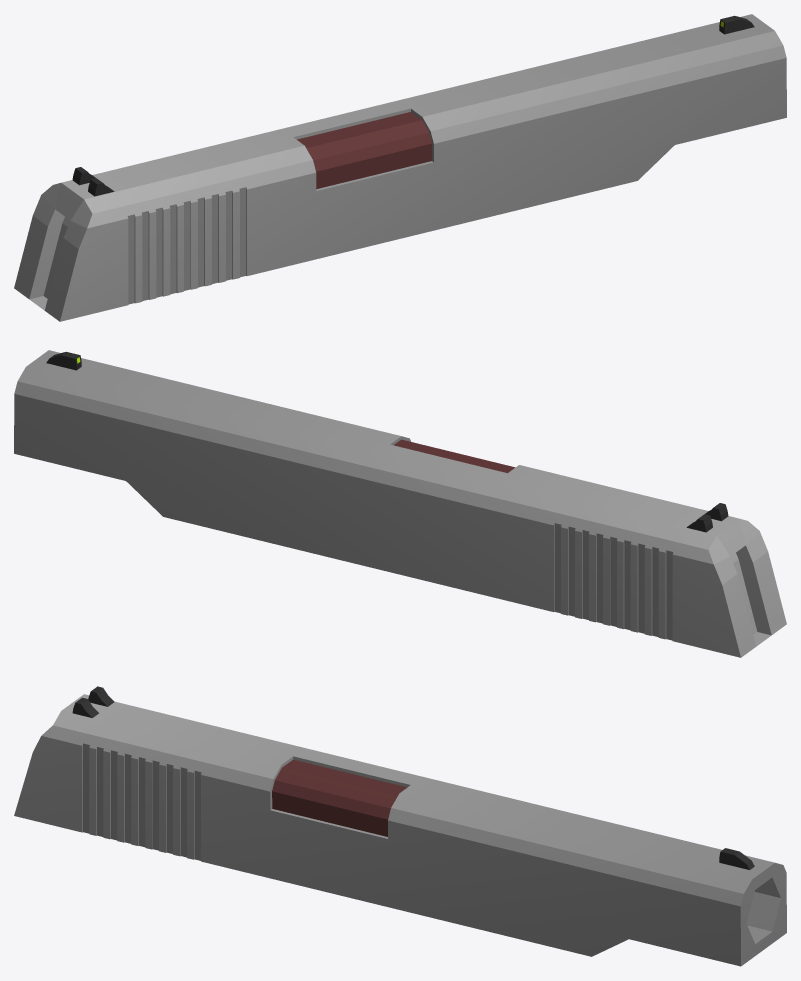
Rendered from Pistol2_06_2.fbx.
3 views of the same model, one above another, from view 1: azimuth 30°, elevation 25°; view 2: azimuth 150°, elevation 25°; view 3: azimuth 330°, elevation 25° (orthographic).
Parts seen in each view (by area): view 1: Pistol2_06_2; view 2: Pistol2_06_2; view 3: Pistol2_06_2.
Part boxes in pixels (left/top/right/bottom): Pistol2_06_2: left=14, top=14, right=786, bottom=321; Pistol2_06_2: left=14, top=350, right=786, bottom=657; Pistol2_06_2: left=14, top=686, right=786, bottom=966.
Bounding box in the file's own units: 0.225 × 0.0345 × 0.0246.
